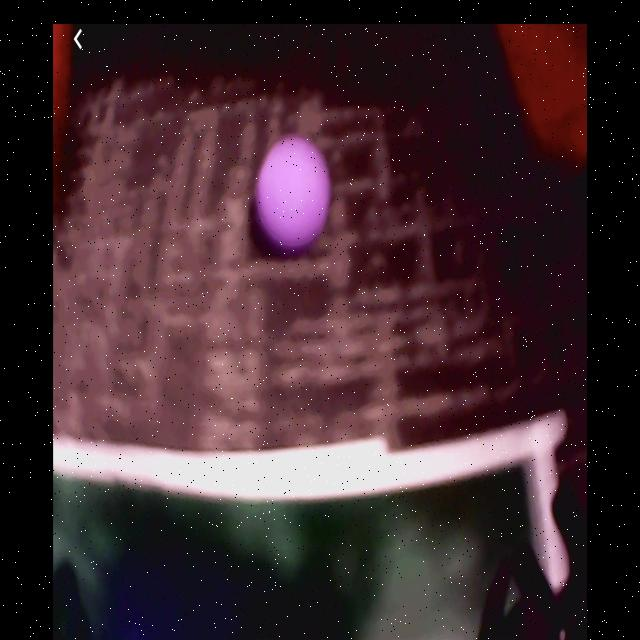ball: (258, 140, 333, 246)
